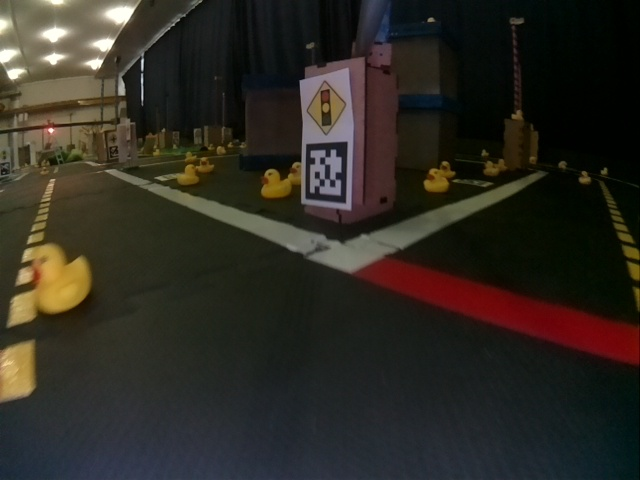Duckie: (31, 248, 91, 314), (260, 169, 291, 196), (423, 169, 448, 191), (179, 165, 198, 184), (289, 162, 301, 184), (440, 162, 456, 177), (198, 158, 213, 173), (483, 163, 499, 176), (579, 172, 591, 183), (496, 159, 507, 170), (513, 110, 522, 120), (559, 161, 567, 171)
QR code: (305, 142, 348, 203), (454, 177, 492, 187)
Signal sign: (306, 78, 351, 137)
